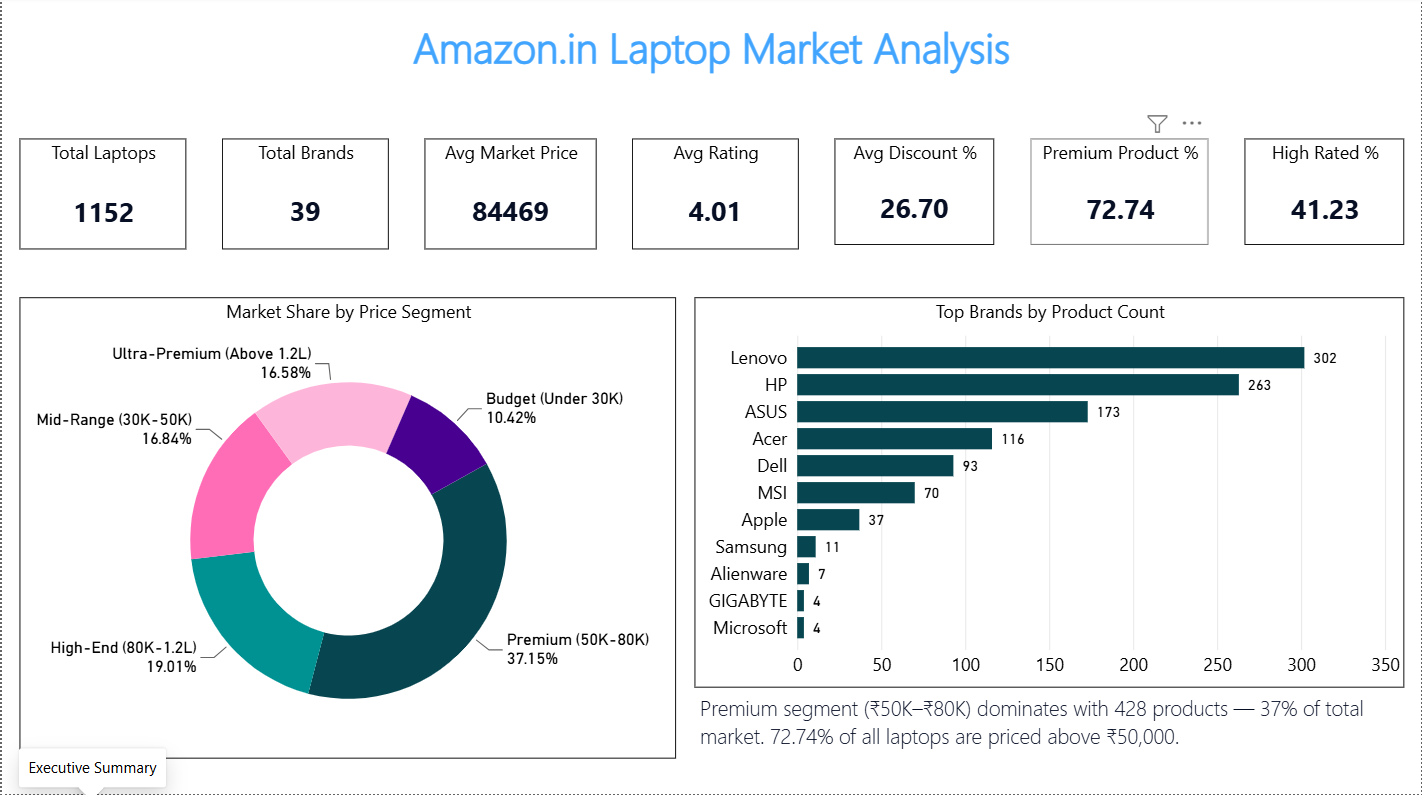

The dashboard page shown, as its layout file describes it:
{"tool":"powerbi","page":{"name":"Executive Summary","canvas":[1280,720],"ordinal":0},"visuals":[{"type":"textbox","box":[16,16,1248,80],"z":0},{"type":"cardVisual","title":"Total Laptops","fields":{"Data":["Sum(ecommerce_analytics vw_kpi_summary.total_products)"]},"box":[16,128,150,100],"z":1000},{"type":"cardVisual","title":"Avg Discount %","fields":{"Data":["Sum(ecommerce_analytics vw_kpi_summary.avg_discount)"]},"box":[751,128,144,96],"z":2000},{"type":"cardVisual","title":"Avg Rating","fields":{"Data":["Sum(ecommerce_analytics vw_kpi_summary.avg_rating)"]},"box":[568.5,128,150,100],"z":3000},{"type":"cardVisual","title":"Avg Market Price","fields":{"Data":["Sum(ecommerce_analytics vw_kpi_summary.avg_price)"]},"box":[381,128,155,100],"z":4000},{"type":"cardVisual","title":"Total Brands","fields":{"Data":["Sum(ecommerce_analytics vw_kpi_summary.total_brands)"]},"box":[198.5,128,150,100],"z":5000},{"type":"donutChart","title":"Market Share by Price Segment","fields":{"Category":["ecommerce_analytics vw_price_segments.price_segment"],"Y":["Sum(ecommerce_analytics vw_price_segments.total_products)"]},"box":[16,272,592,416],"z":6000},{"type":"clusteredBarChart","title":"Top Brands by Product Count","fields":{"Category":["ecommerce_analytics vw_brand_performance.brand"],"Y":["Sum(ecommerce_analytics vw_brand_performance.total_products)"]},"box":[624,272,640,352],"z":7000},{"type":"cardVisual","title":"Premium Product %","fields":{"Data":["ecommerce_analytics vw_all_products.Premium Product %"]},"box":[927.5,128,160,96],"z":8000},{"type":"cardVisual","title":"High Rated %","fields":{"Data":["ecommerce_analytics vw_all_products.High Rated %"]},"box":[1120,128,144,96],"z":9000},{"type":"textbox","box":[624,624,640,64],"z":10000}]}

Visuals, with their boxes in screenshot pixels (x1, y1, x2, y2), scaled from the page's 1280x720 canvas onto the 1422x795 screenshot:
textbox: [x1=18, y1=18, x2=1404, y2=106]
"Total Laptops" cardVisual: [x1=18, y1=141, x2=184, y2=252]
"Avg Discount %" cardVisual: [x1=834, y1=141, x2=994, y2=247]
"Avg Rating" cardVisual: [x1=632, y1=141, x2=798, y2=252]
"Avg Market Price" cardVisual: [x1=423, y1=141, x2=595, y2=252]
"Total Brands" cardVisual: [x1=221, y1=141, x2=387, y2=252]
"Market Share by Price Segment" donutChart: [x1=18, y1=300, x2=675, y2=760]
"Top Brands by Product Count" clusteredBarChart: [x1=693, y1=300, x2=1404, y2=689]
"Premium Product %" cardVisual: [x1=1030, y1=141, x2=1208, y2=247]
"High Rated %" cardVisual: [x1=1244, y1=141, x2=1404, y2=247]
textbox: [x1=693, y1=689, x2=1404, y2=760]
